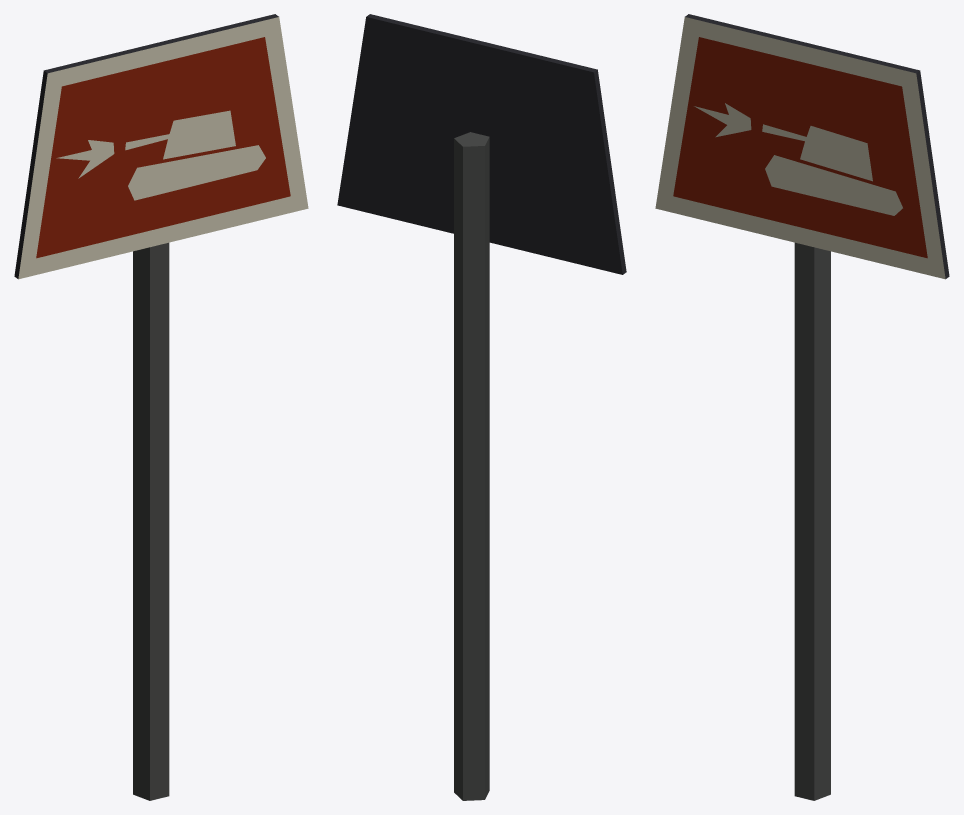
File: LPWarPack_WarningSign_Tank.fbx
The picture shows the model from 3 angles, left to right: view 1: azimuth 30°, elevation 25°; view 2: azimuth 150°, elevation 25°; view 3: azimuth 330°, elevation 25°; orthographic projection.
Parts seen in each view (by area): view 1: WarningSign_Tank; view 2: WarningSign_Tank; view 3: WarningSign_Tank.
Part boxes in pixels (x1,y1,x2,y2): WarningSign_Tank: [14, 14, 308, 800]; WarningSign_Tank: [337, 14, 626, 800]; WarningSign_Tank: [655, 14, 949, 800].
Bounding box in the file's own units: 72.47 × 180 × 9.18.
